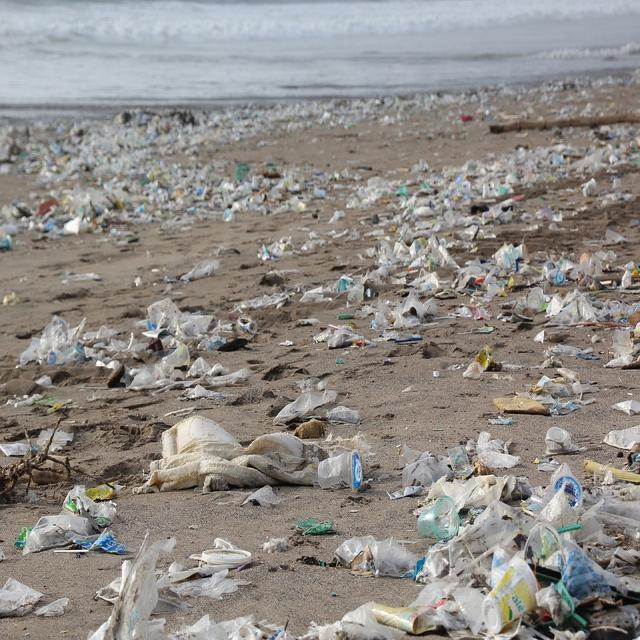garbage: (2, 116, 640, 638), (352, 148, 634, 615), (383, 406, 640, 640)
